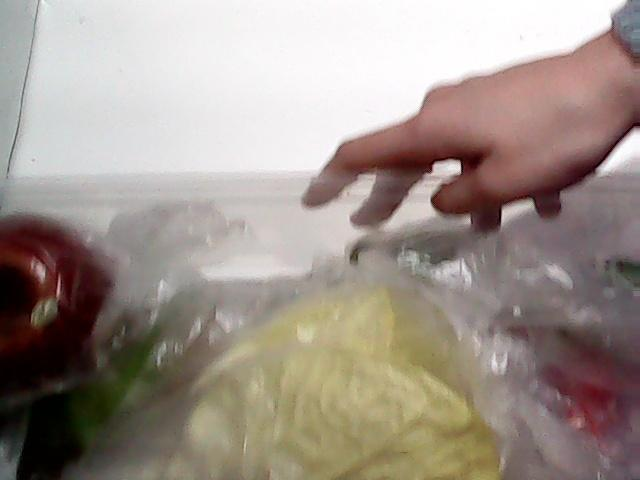apple: (0, 190, 128, 406)
cabbage: (32, 329, 178, 470)
carrot: (487, 254, 640, 461)
napa cabbage: (75, 280, 541, 480)
